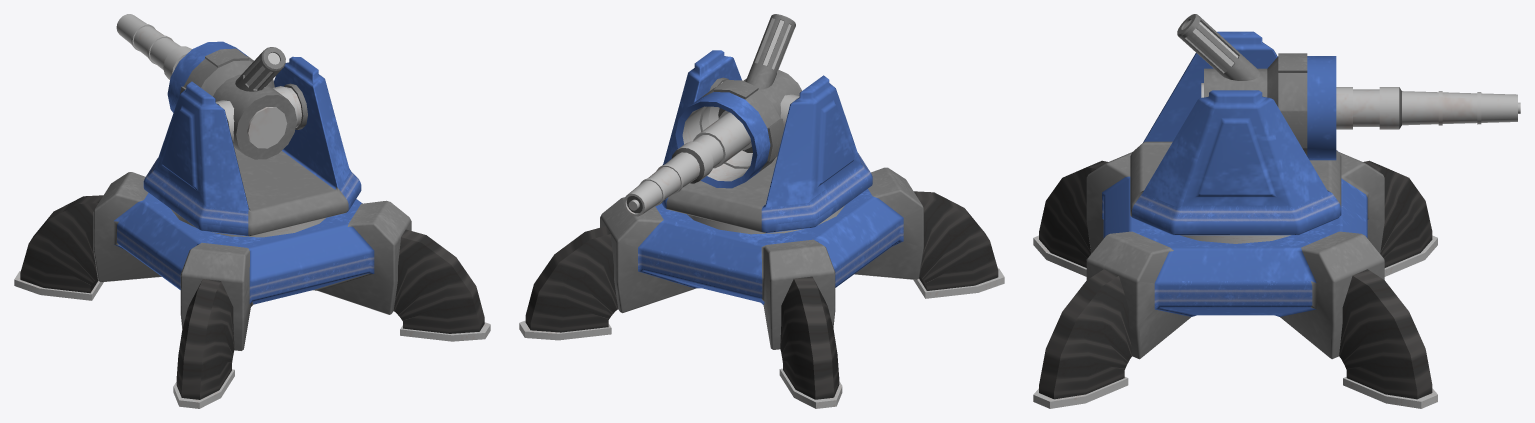
The model's file is SM_UPF-Cannon_AVPC-90_Cannon.fbx.
3 views of the same model, side by side, from view 1: azimuth 30°, elevation 25°; view 2: azimuth 150°, elevation 25°; view 3: azimuth 270°, elevation 25° (orthographic). The views are drawn at different scales.
Parts seen in each view (by area): view 1: Cube.010, Cube.002, Cube.009, Cylinder.001, Cylinder.007, Cylinder.002, Cylinder; view 2: Cube.010, Cube.009, Cube.002, Cylinder.001, Cylinder; view 3: Cube.010, Cube.009, Cube.002, Cylinder.001, Cylinder.
Boxes of the visible parts, <box> form: Cube.010: <box>93,172,411,350</box>; Cube.002: <box>143,56,361,236</box>; Cube.009: <box>14,195,490,408</box>; Cylinder.001: <box>116,14,296,159</box>; Cylinder.007: <box>247,107,287,148</box>; Cylinder.002: <box>215,83,307,145</box>; Cylinder: <box>171,209,325,237</box>; Cube.010: <box>600,167,923,349</box>; Cube.009: <box>519,191,1004,408</box>; Cube.002: <box>661,50,872,233</box>; Cylinder.001: <box>623,14,801,216</box>; Cylinder: <box>687,205,844,234</box>; Cube.010: <box>1086,152,1384,359</box>; Cube.009: <box>1033,160,1437,408</box>; Cube.002: <box>1130,31,1341,235</box>; Cylinder.001: <box>1177,14,1520,160</box>; Cylinder: <box>1180,235,1290,243</box>.
Size of the model in its own units: 1228 by 1029 by 1478.
